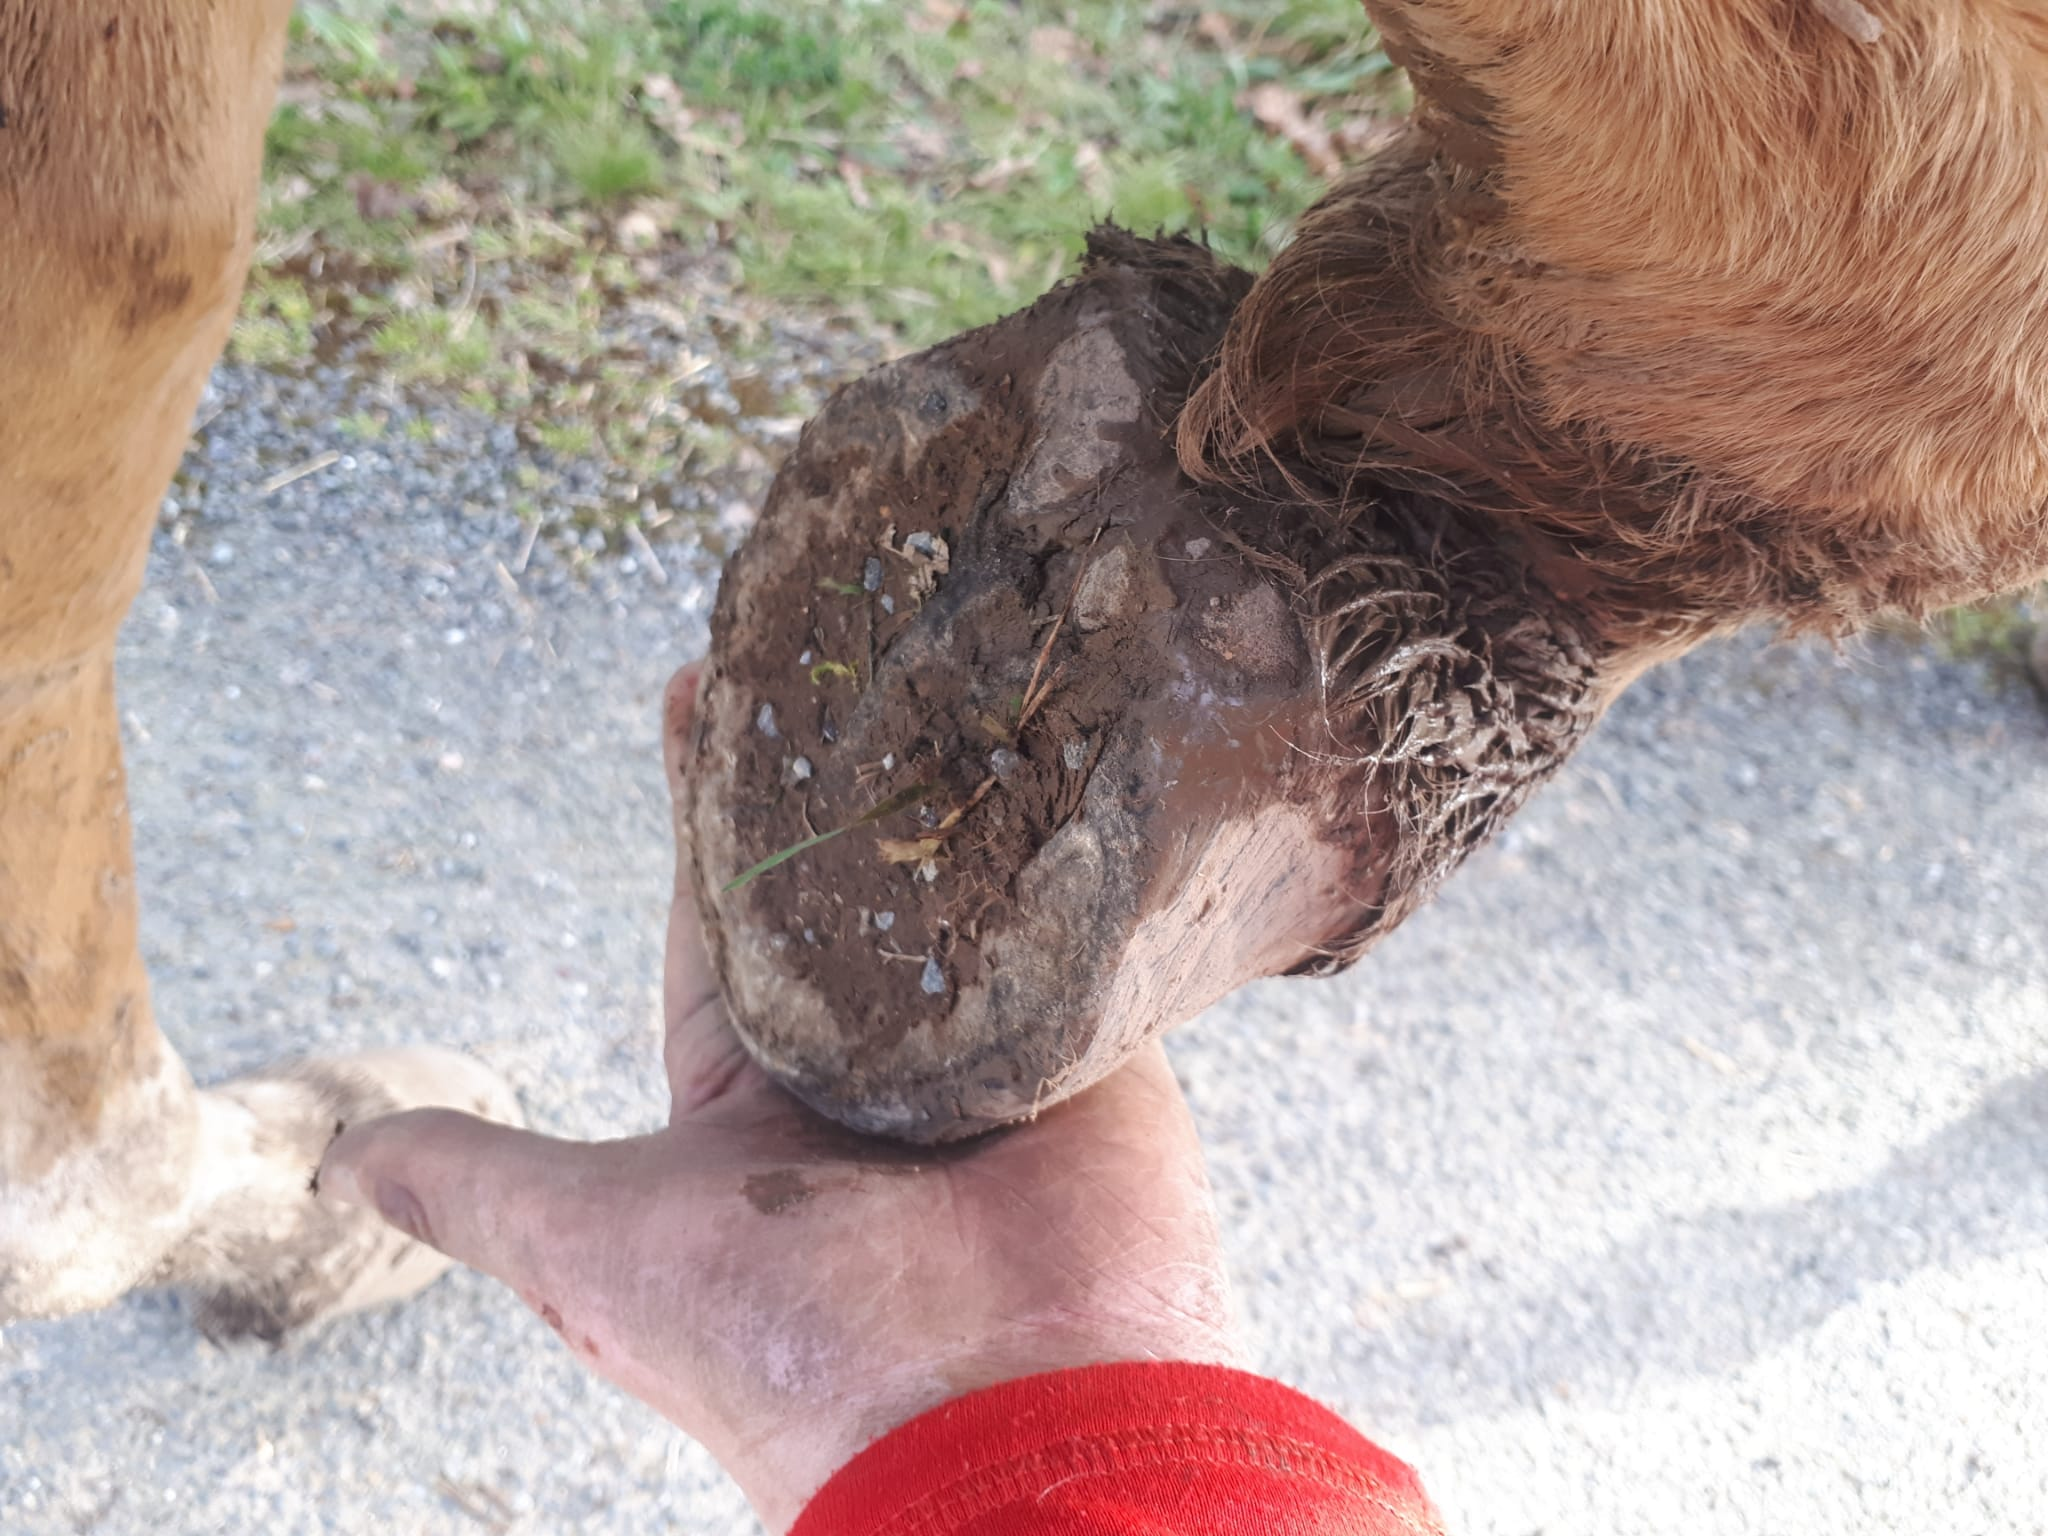horsesole: (677, 357, 1164, 1137)
